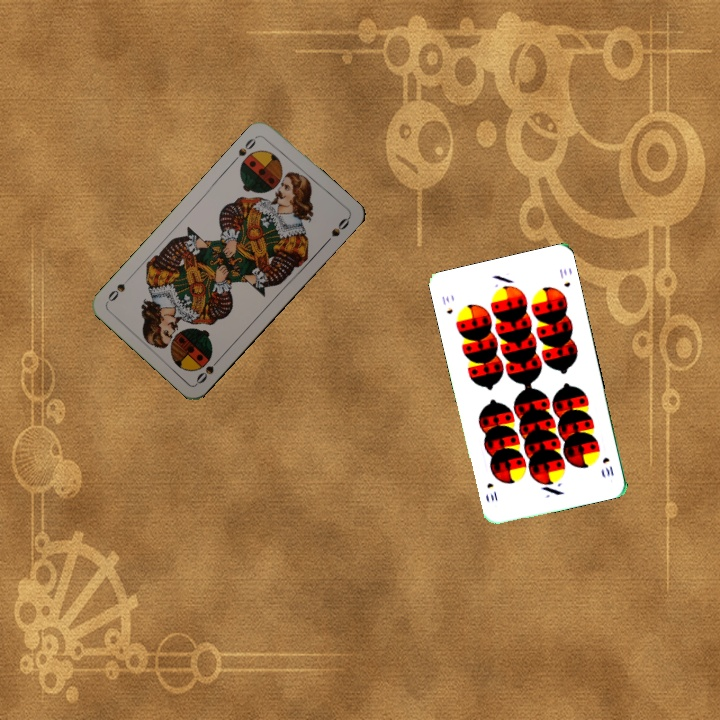S10: (599, 453, 616, 479), (438, 292, 455, 316)
SO: (192, 353, 224, 387), (234, 131, 261, 159)
